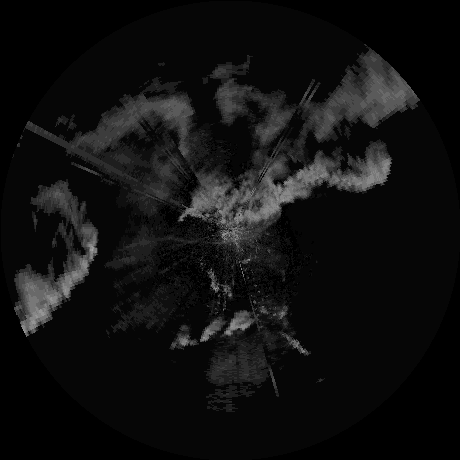frontgust: (114, 235, 221, 250)
